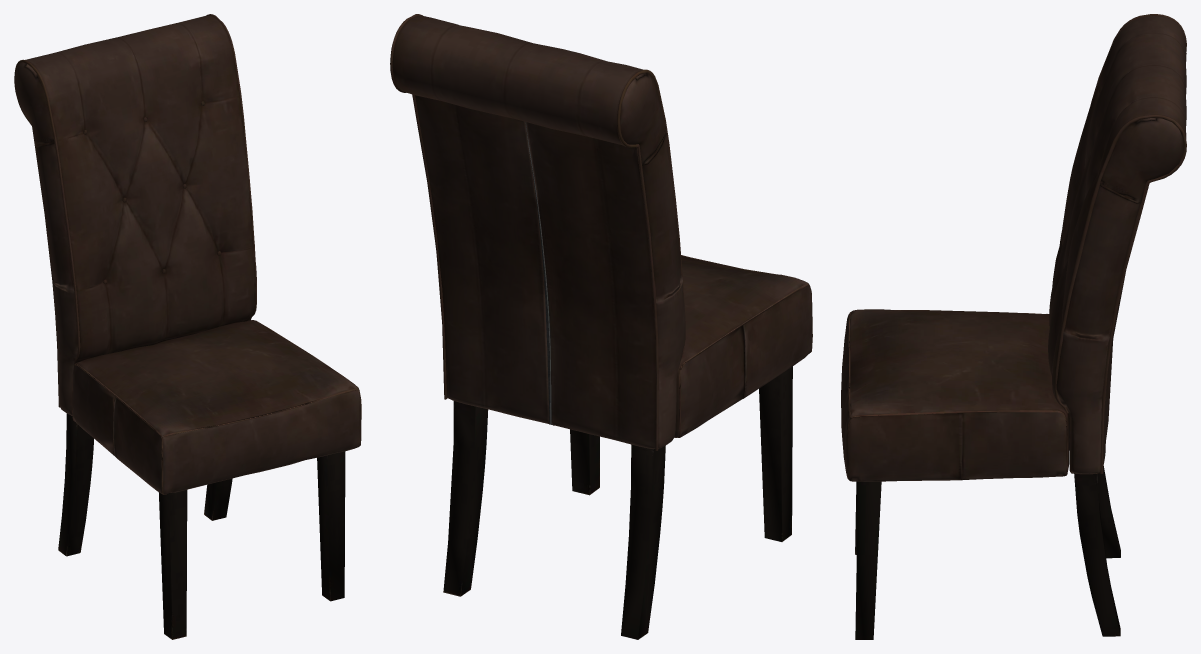
The model's file is dining_chair_02.glb.
3 renders of one model, left to right at view 1: azimuth 30°, elevation 25°; view 2: azimuth 150°, elevation 25°; view 3: azimuth 270°, elevation 25°, orthographic. The views are drawn at different scales.
Parts seen in each view (by area): view 1: dining_chair_02; view 2: dining_chair_02; view 3: dining_chair_02.
Boxes of the visible parts, left/top/right/bottom form: dining_chair_02: left=14, top=14, right=361, bottom=639; dining_chair_02: left=390, top=14, right=812, bottom=639; dining_chair_02: left=841, top=14, right=1186, bottom=639.
Size of the model in its own units: 0.4336 by 0.9728 by 0.5765.
Materials: 1 (1 with a texture image).
